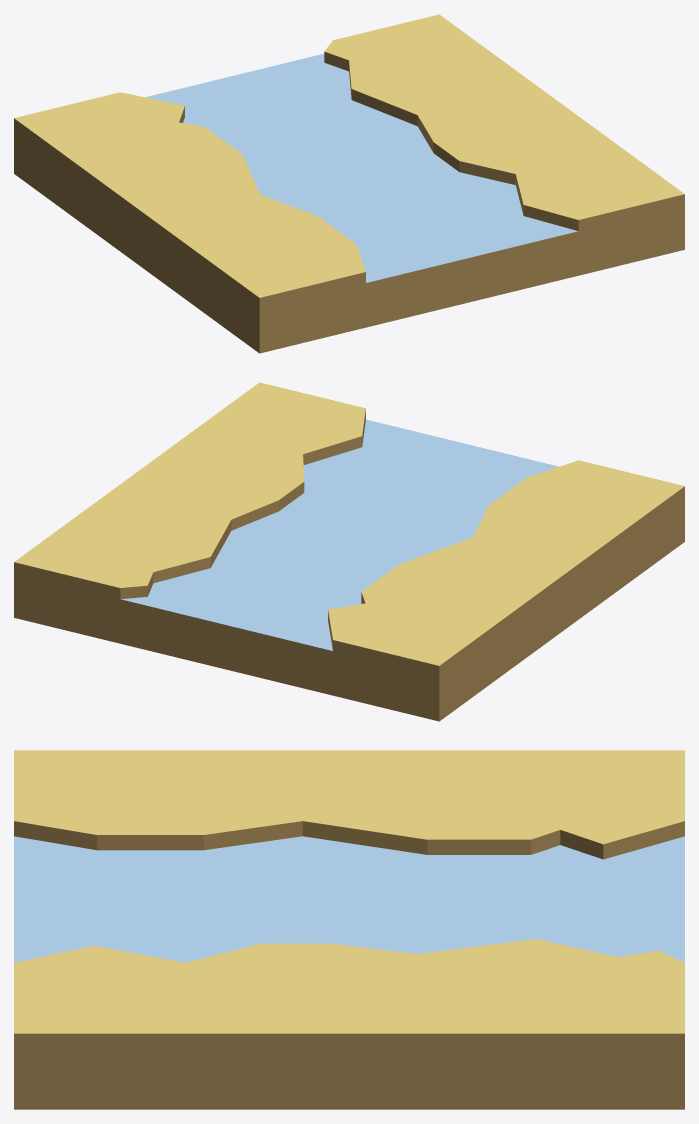
Rendered from Terrain_Tile_Sand_River_01.fbx.
3 renders of one model, top to bottom at view 1: azimuth 30°, elevation 25°; view 2: azimuth 150°, elevation 25°; view 3: azimuth 270°, elevation 25°, orthographic. The views are drawn at different scales.
Parts seen in each view (by area): view 1: Model; view 2: Model; view 3: Model.
Part boxes in pixels (x1=…): Model: x1=14, y1=14, x2=684, y2=353; Model: x1=14, y1=382, x2=684, y2=721; Model: x1=14, y1=750, x2=684, y2=1109.
Size of the model in its own units: 2000 by 250 by 2000.
